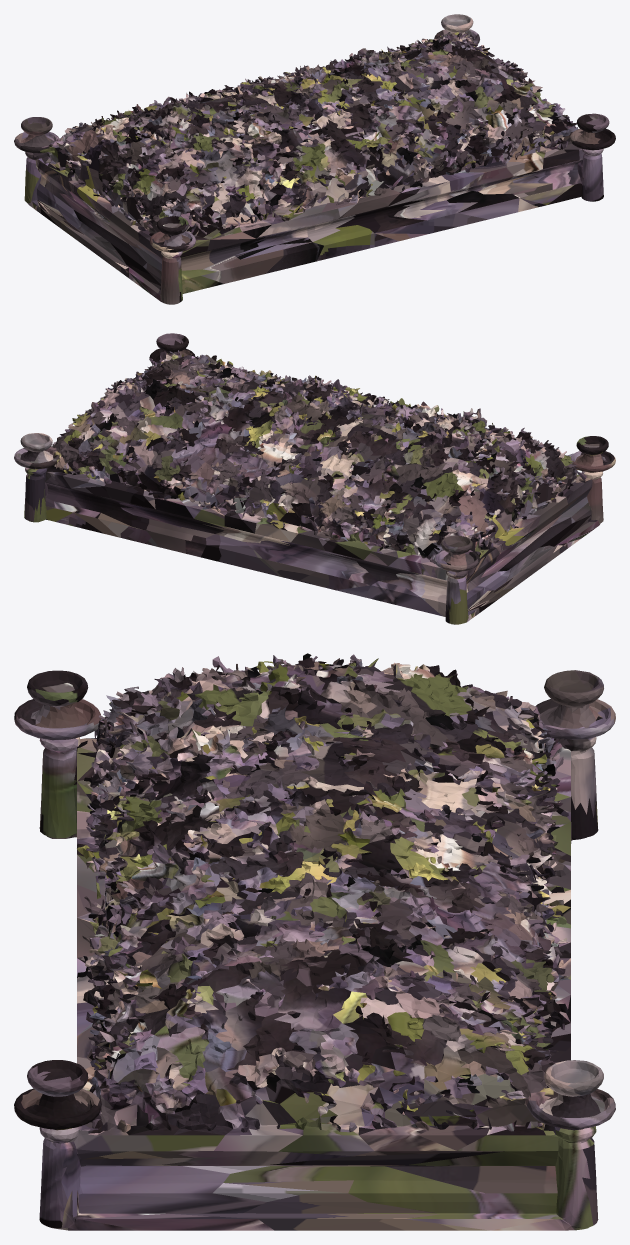
Rendered from rflower_w_pbr.fbx.
3 renders of one model, top to bottom at view 1: azimuth 30°, elevation 25°; view 2: azimuth 150°, elevation 25°; view 3: azimuth 270°, elevation 25°, orthographic. The views are drawn at different scales.
Visible parts, largest first — view 1: model; view 2: model; view 3: model.
Boxes of the visible parts, x1,y1,x2,y2 form: model: (14,14,615,304); model: (14,333,615,624); model: (14,653,615,1230).
Bounding box in the file's own units: 184 × 45.73 × 110.
